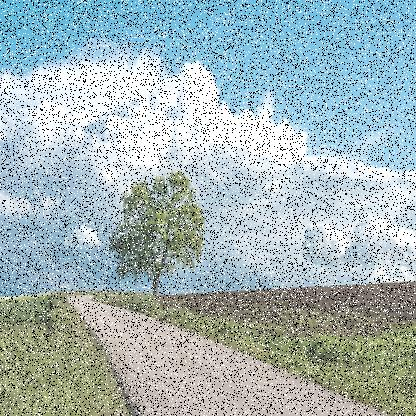Tree: (107, 172, 206, 294)
